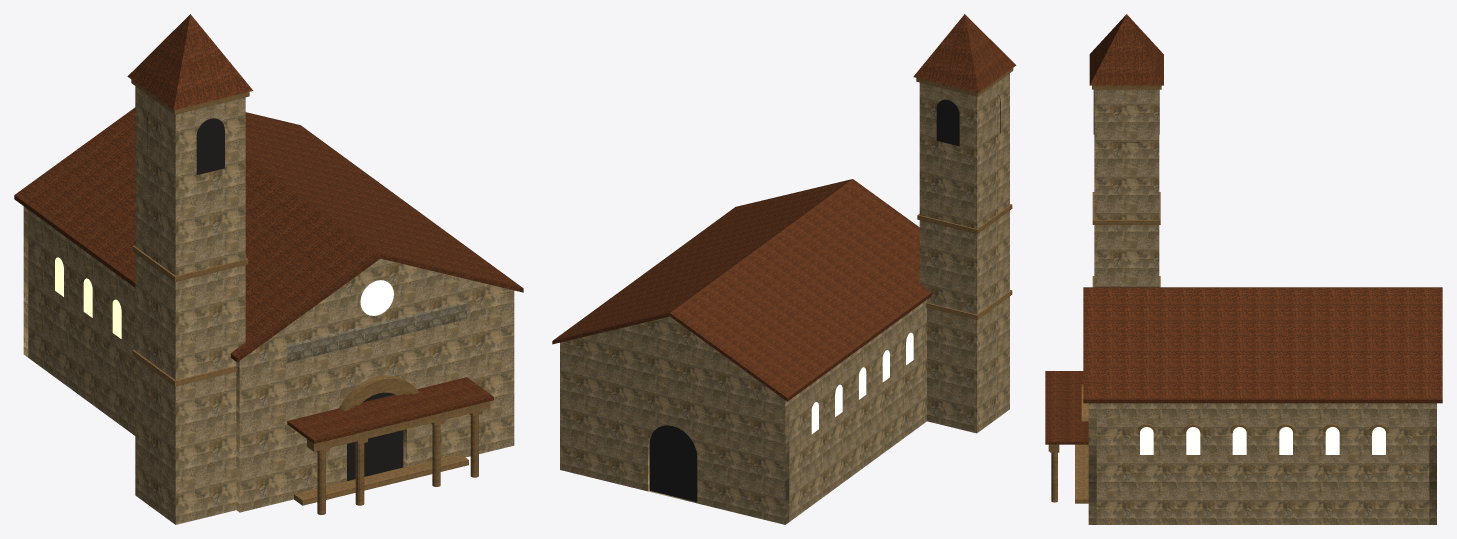
Rendered from campanile.glb.
The picture shows the model from 3 angles, left to right: view 1: azimuth 30°, elevation 25°; view 2: azimuth 150°, elevation 25°; view 3: azimuth 270°, elevation 25°; orthographic projection. The views are drawn at different scales.
Parts seen in each view (by area): view 1: methodist_wall, methodist_roof, methodist_trim, methodist_shadow, merged_methodist_relief_methodist-band, methodist_glass; view 2: methodist_wall, methodist_roof, methodist_shadow, methodist_trim, methodist_glass; view 3: methodist_wall, methodist_roof, methodist_trim, methodist_glass.
Part boxes in pixels (<box>): methodist_wall: <box>23,86,514,524</box>; methodist_roof: <box>14,14,523,443</box>; methodist_trim: <box>131,79,490,514</box>; methodist_shadow: <box>147,112,403,480</box>; merged_methodist_relief_methodist-band: <box>287,301,466,362</box>; methodist_glass: <box>55,257,393,338</box>; methodist_wall: <box>560,73,1009,524</box>; methodist_roof: <box>552,14,1016,401</box>; methodist_shadow: <box>649,94,1000,502</box>; methodist_trim: <box>916,68,1013,319</box>; methodist_glass: <box>811,332,913,434</box>; methodist_wall: <box>1088,89,1436,524</box>; methodist_roof: <box>1045,14,1442,444</box>; methodist_trim: <box>1048,85,1388,503</box>; methodist_glass: <box>1140,427,1385,454</box>.
Size of the model in its own units: 20.8 by 28.02 by 25.65.
8 materials, 5 textured.
